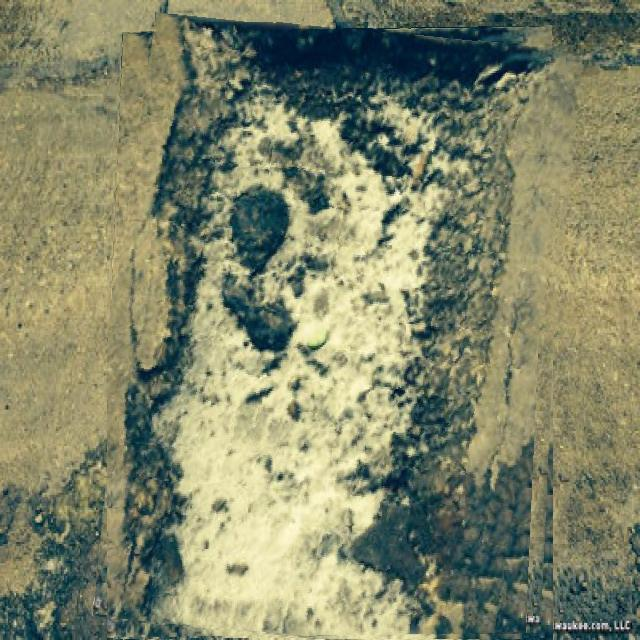Pothole: (107, 22, 568, 640)
